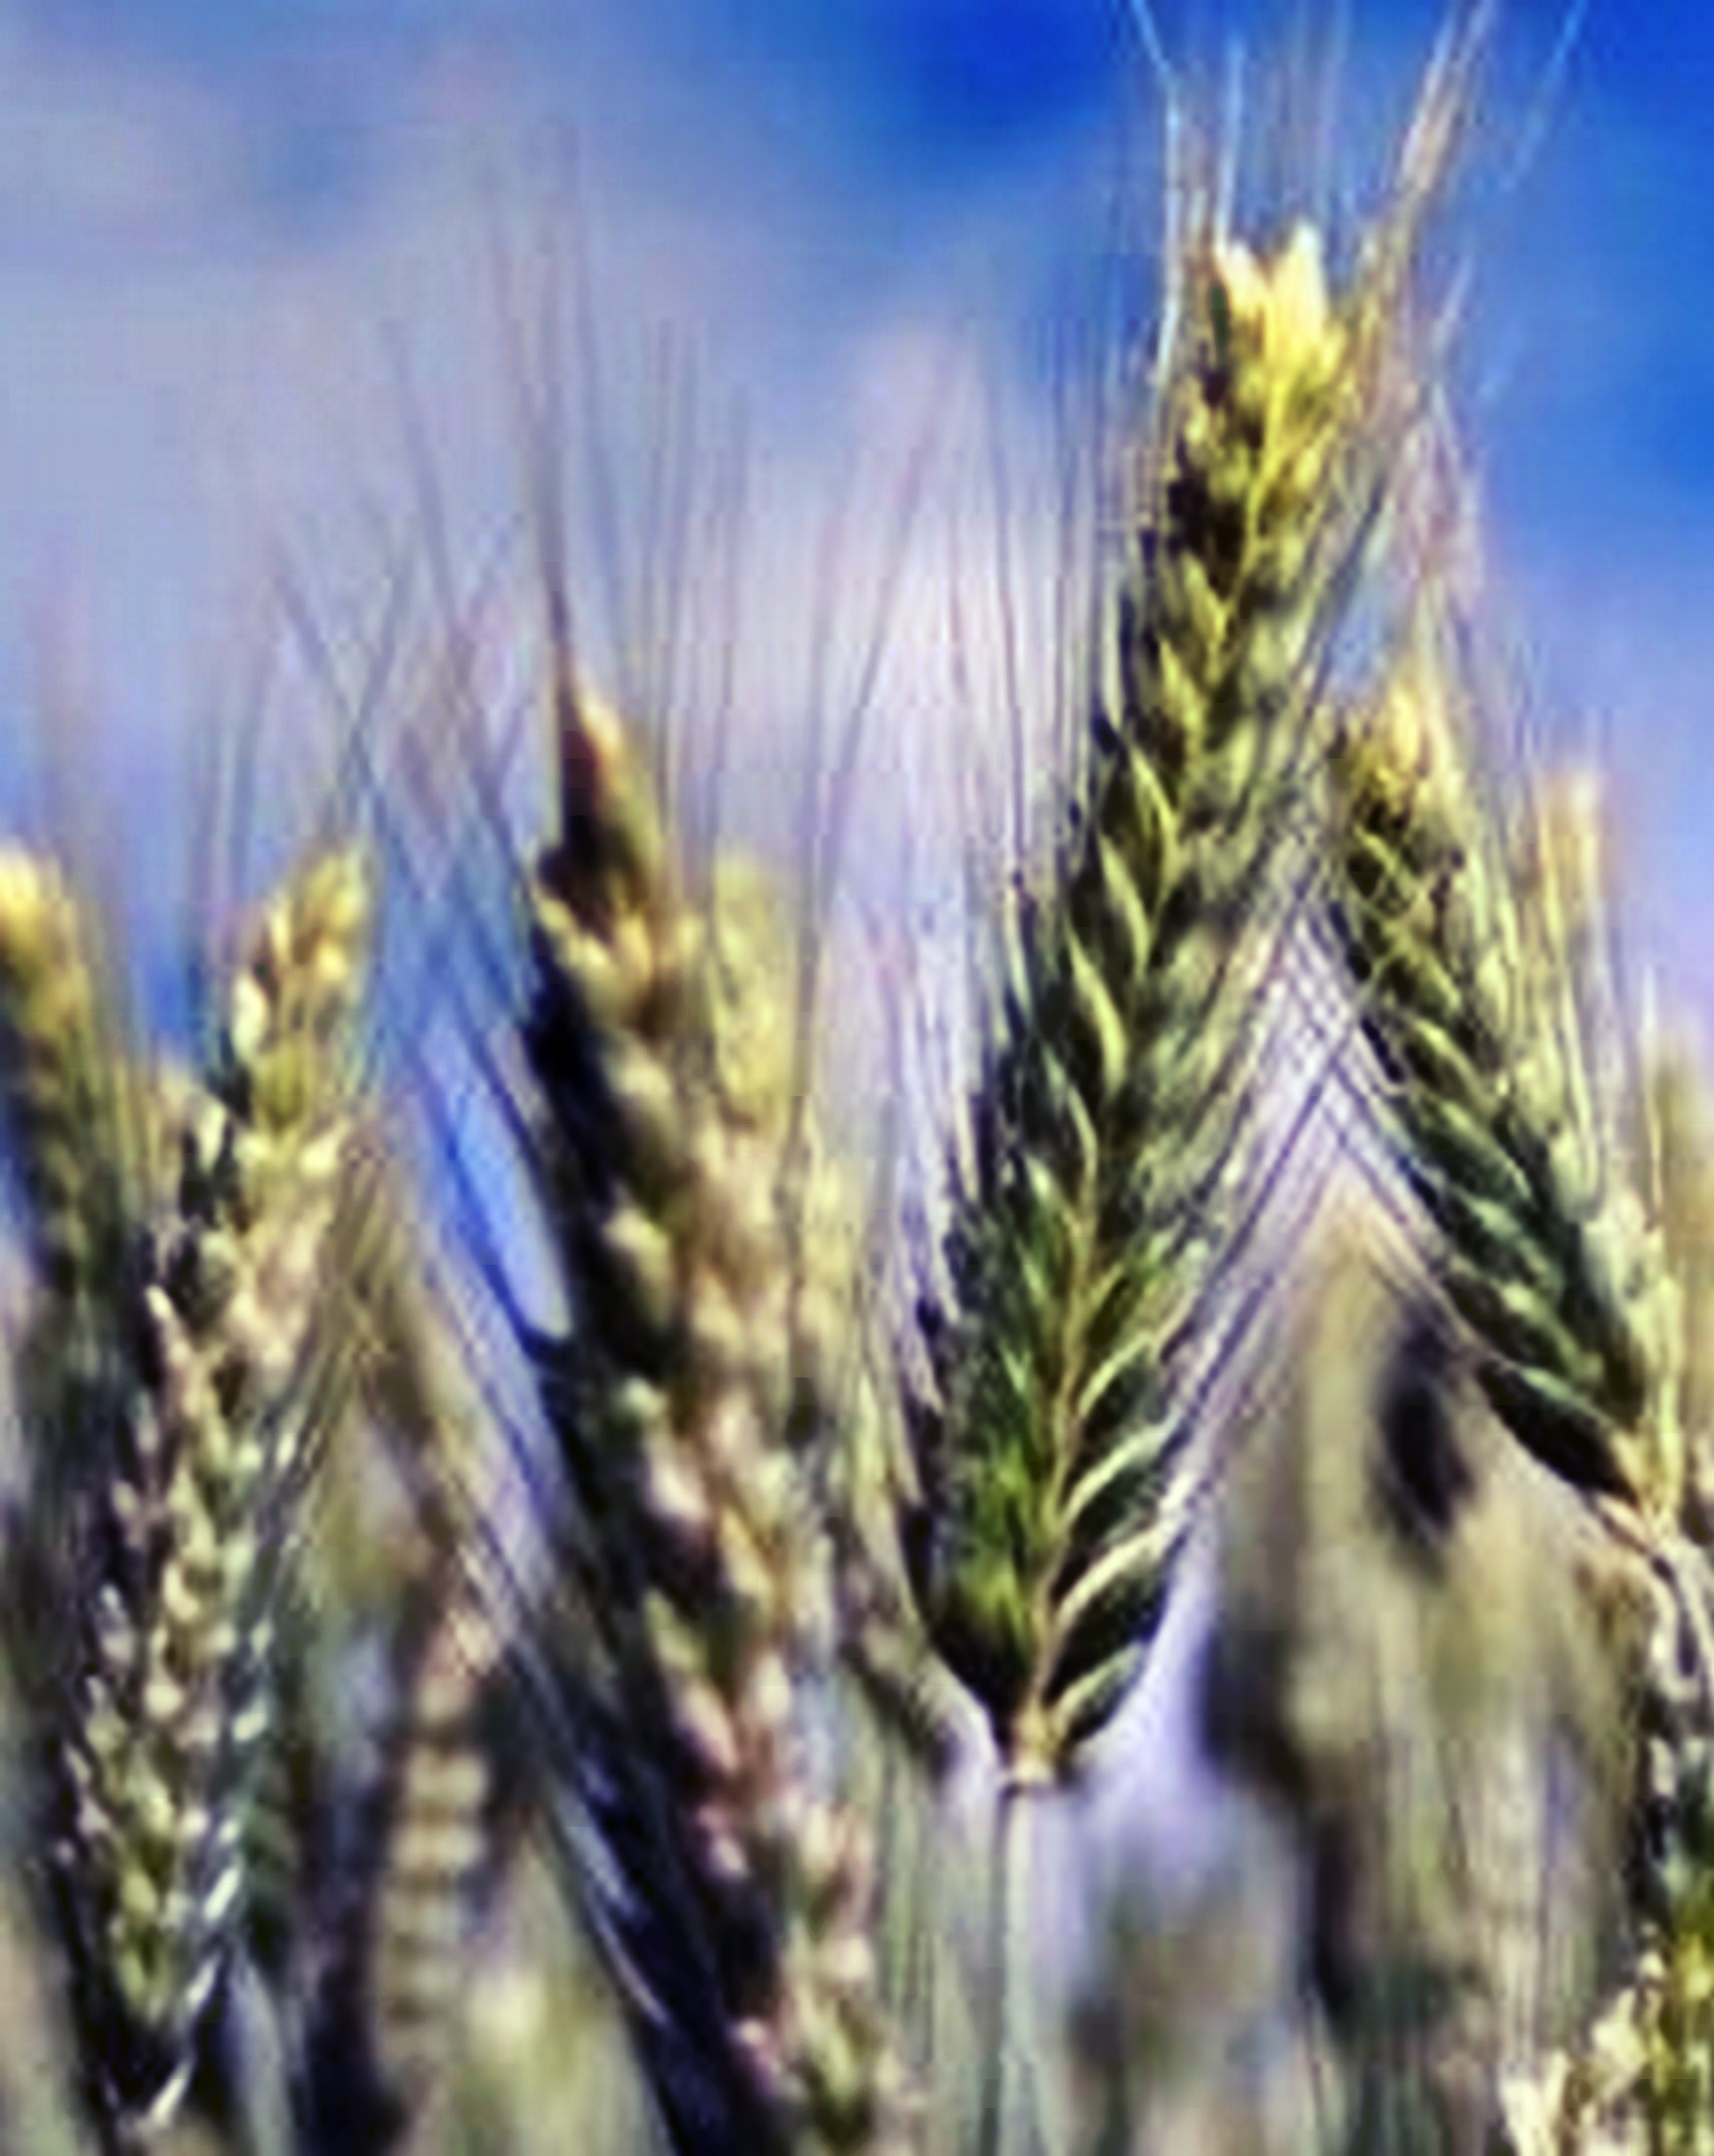Healthy Wheat: (900, 187, 1429, 1685)
